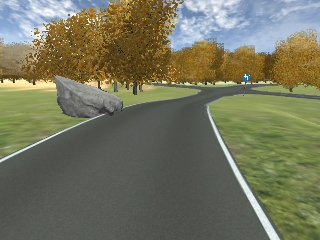left: (242, 74, 250, 82)
